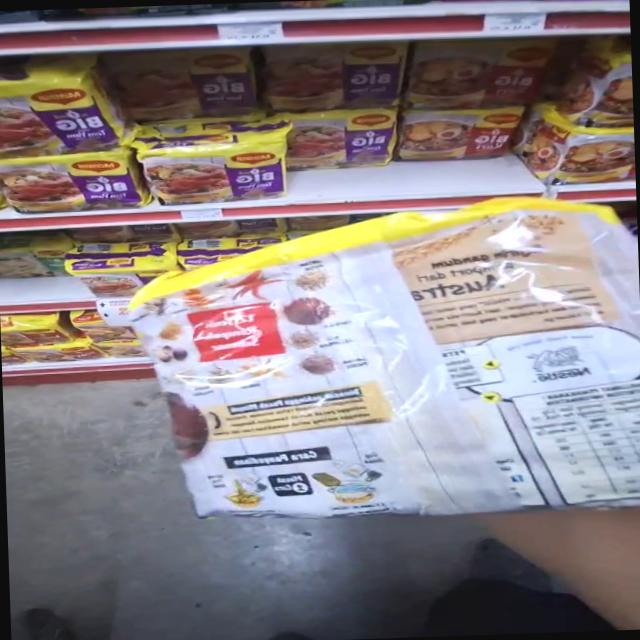Maggi: (141, 179, 640, 531), (141, 115, 279, 206), (0, 57, 119, 152), (0, 150, 137, 226), (394, 94, 526, 164), (512, 120, 636, 187), (283, 106, 400, 168), (0, 320, 94, 377)
